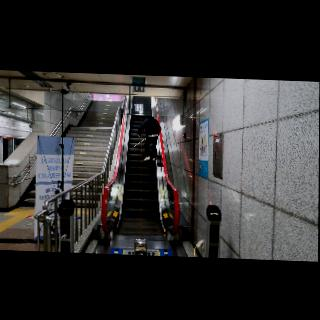normal: (137, 113, 163, 163)
